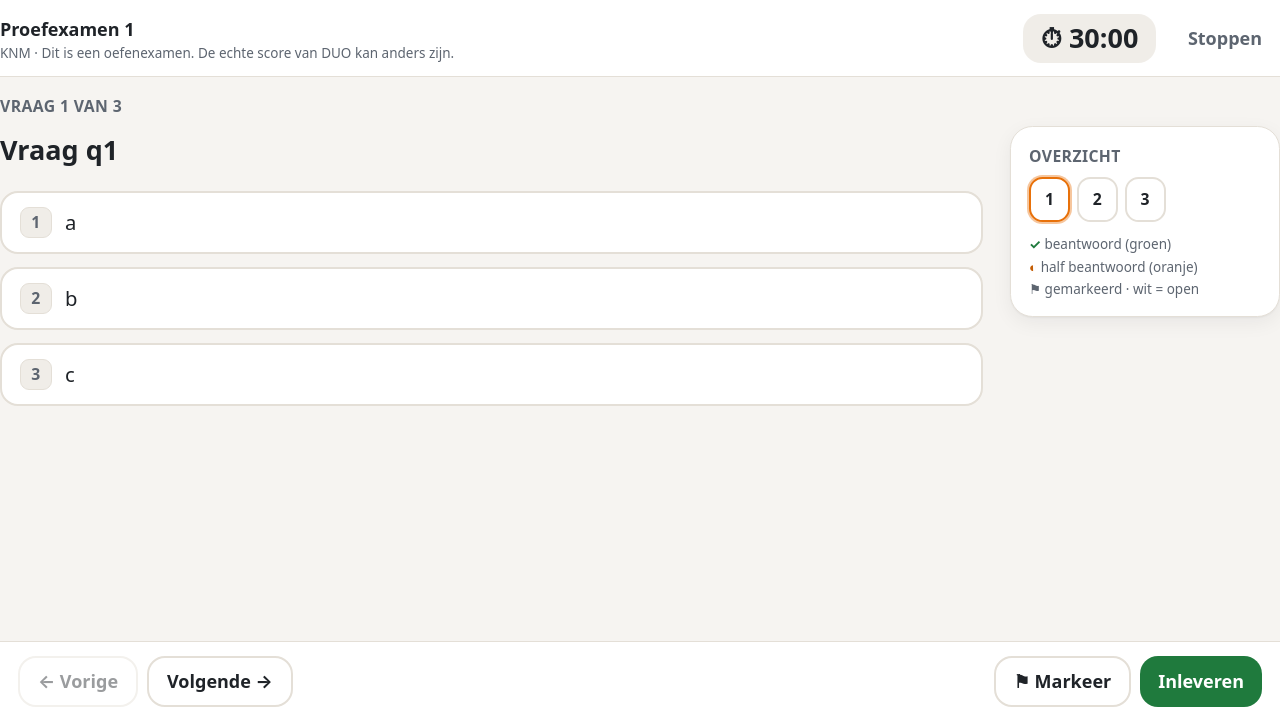
Scenario: handing in › the dialog says how many questions are still open
Click the button "1 a": (36, 222) [0,191,983,254]
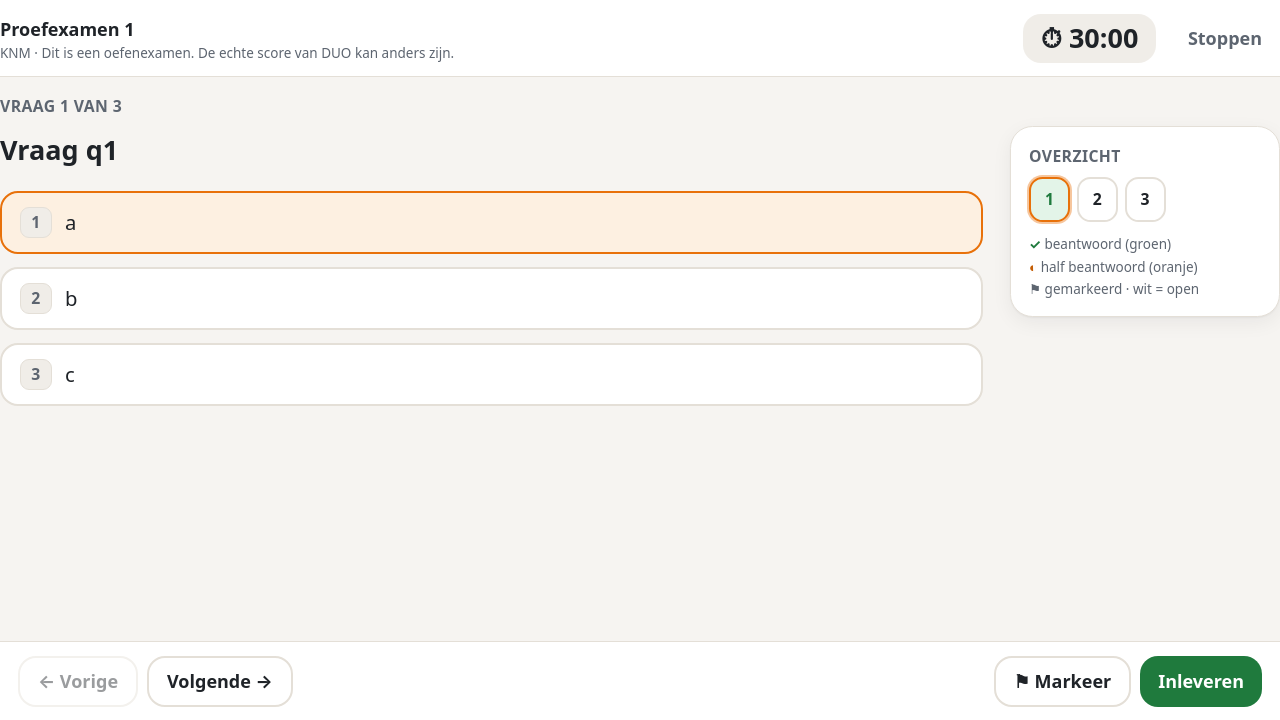
Click the button "Inleveren": (1201, 681) [1140,656,1262,706]
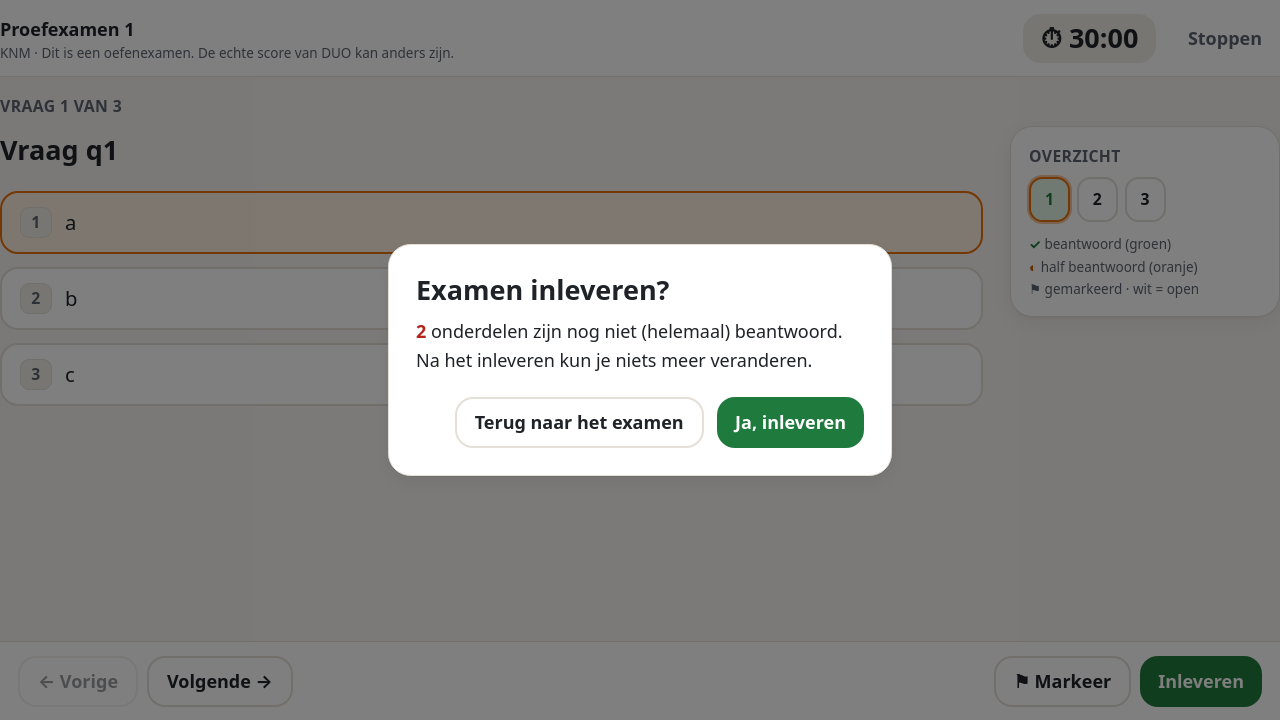
Check: the text "2 onderdelen zijn nog niet (helemaal) beantwoord." is shown, box [416,317,864,375]
